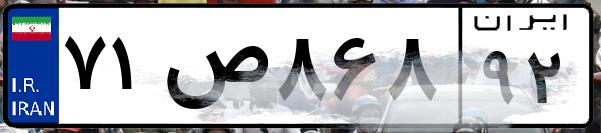1: (110, 28, 158, 98)
2: (525, 38, 570, 115)
6: (330, 28, 385, 110)
7: (57, 26, 110, 100)
8: (270, 28, 330, 110), (385, 28, 445, 110)
9: (475, 38, 525, 113)
ص: (158, 20, 270, 120)
